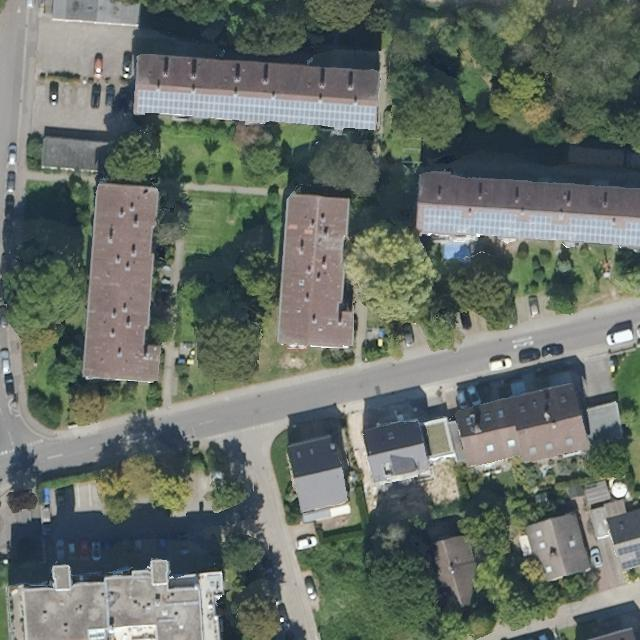PV: (130, 85, 382, 136), (416, 204, 636, 254), (614, 541, 639, 573)
